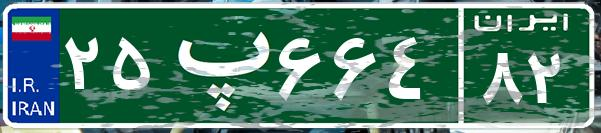2: (57, 26, 110, 107), (525, 38, 570, 115)
4: (385, 28, 445, 110)
5: (110, 28, 158, 105)
6: (273, 28, 330, 110), (330, 28, 385, 110)
8: (475, 38, 525, 113)
پ: (158, 15, 273, 115)
